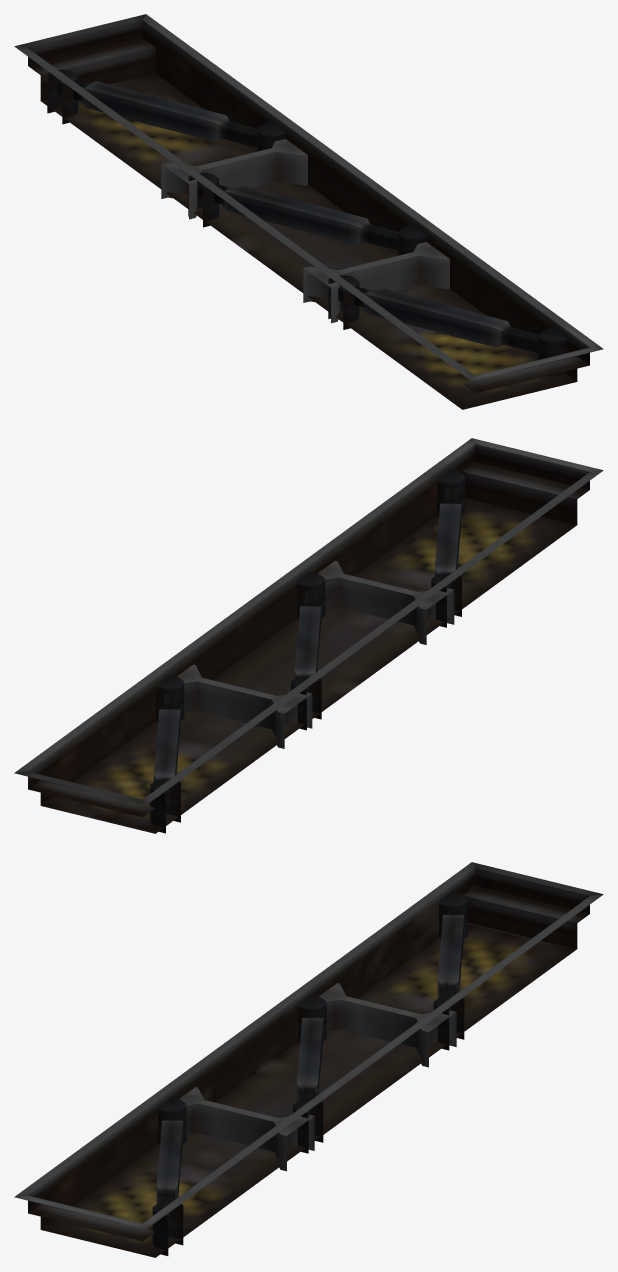
File: Panel_16.FBX
The picture shows the model from 3 angles, top to bottom: view 1: azimuth 30°, elevation 25°; view 2: azimuth 150°, elevation 25°; view 3: azimuth 330°, elevation 25°; orthographic projection.
Visible parts, largest first — view 1: Panel_16; view 2: Panel_16; view 3: Panel_16.
Part boxes in pixels (bbox=[...]): Panel_16: bbox=[14, 14, 603, 409]; Panel_16: bbox=[14, 438, 603, 833]; Panel_16: bbox=[14, 862, 603, 1257].
Size of the model in its own units: 50 by 17.84 by 300.
